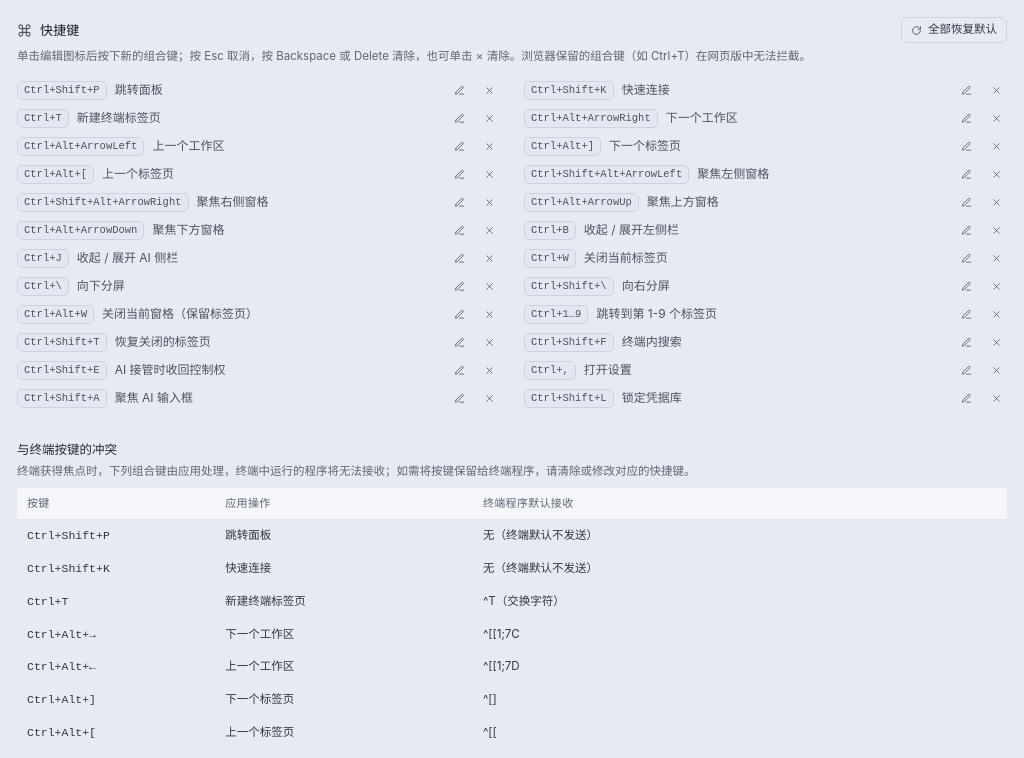
Test: shortcuts editor › clears a binding with Backspace
Click the button named "修改快捷键：关闭当前标签页": [966, 258] box [955,247,977,269]
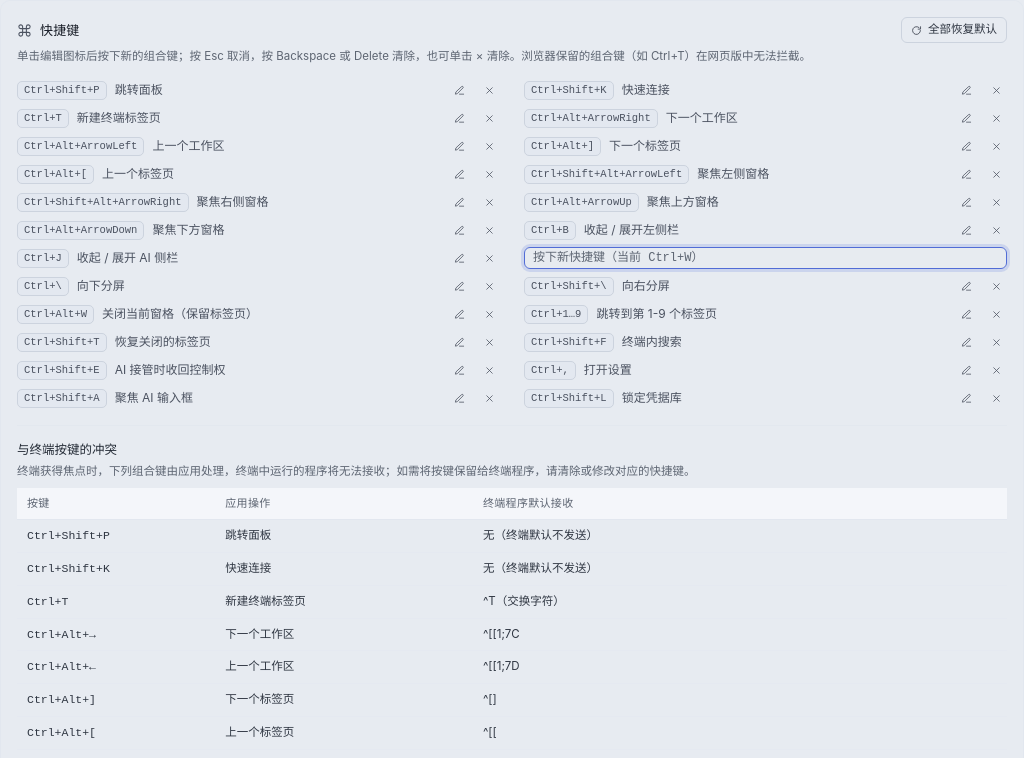
Press Backspace in the field with placeholder "按下新快捷键（当前 Ctrl+W）", box [524,247,1007,269]
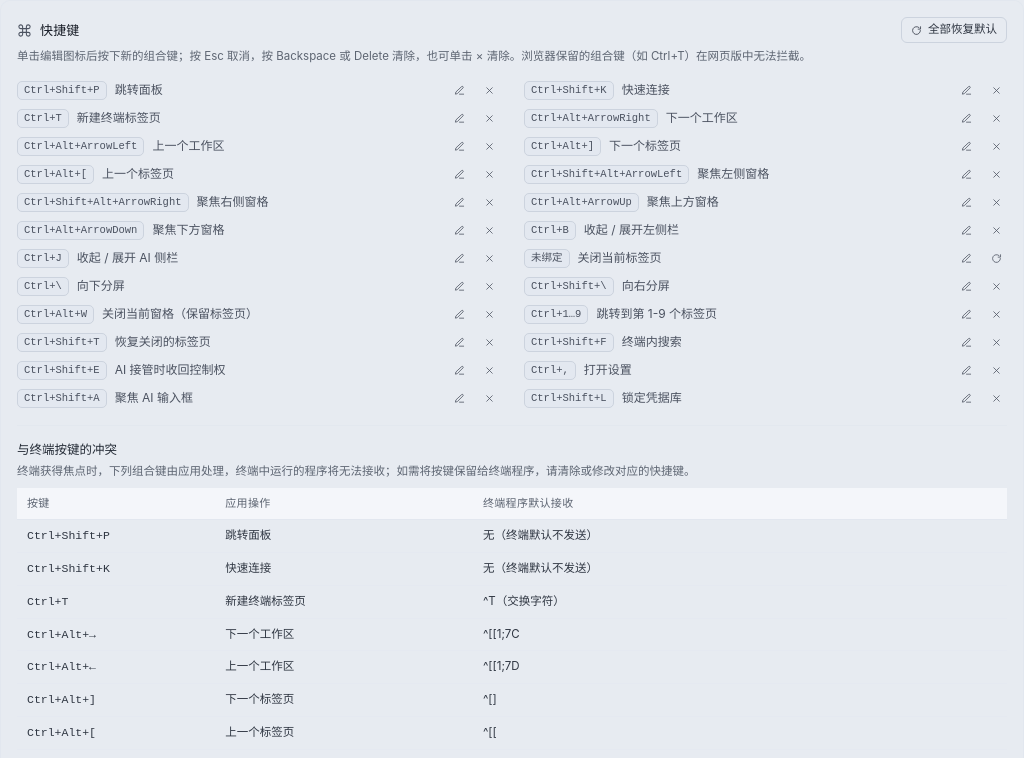
Expected: the text with class "nx-kbd" reads "未绑定", [531,252,562,264]
